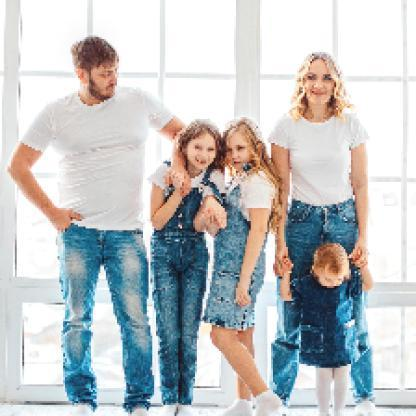child: (276, 243, 377, 416)
